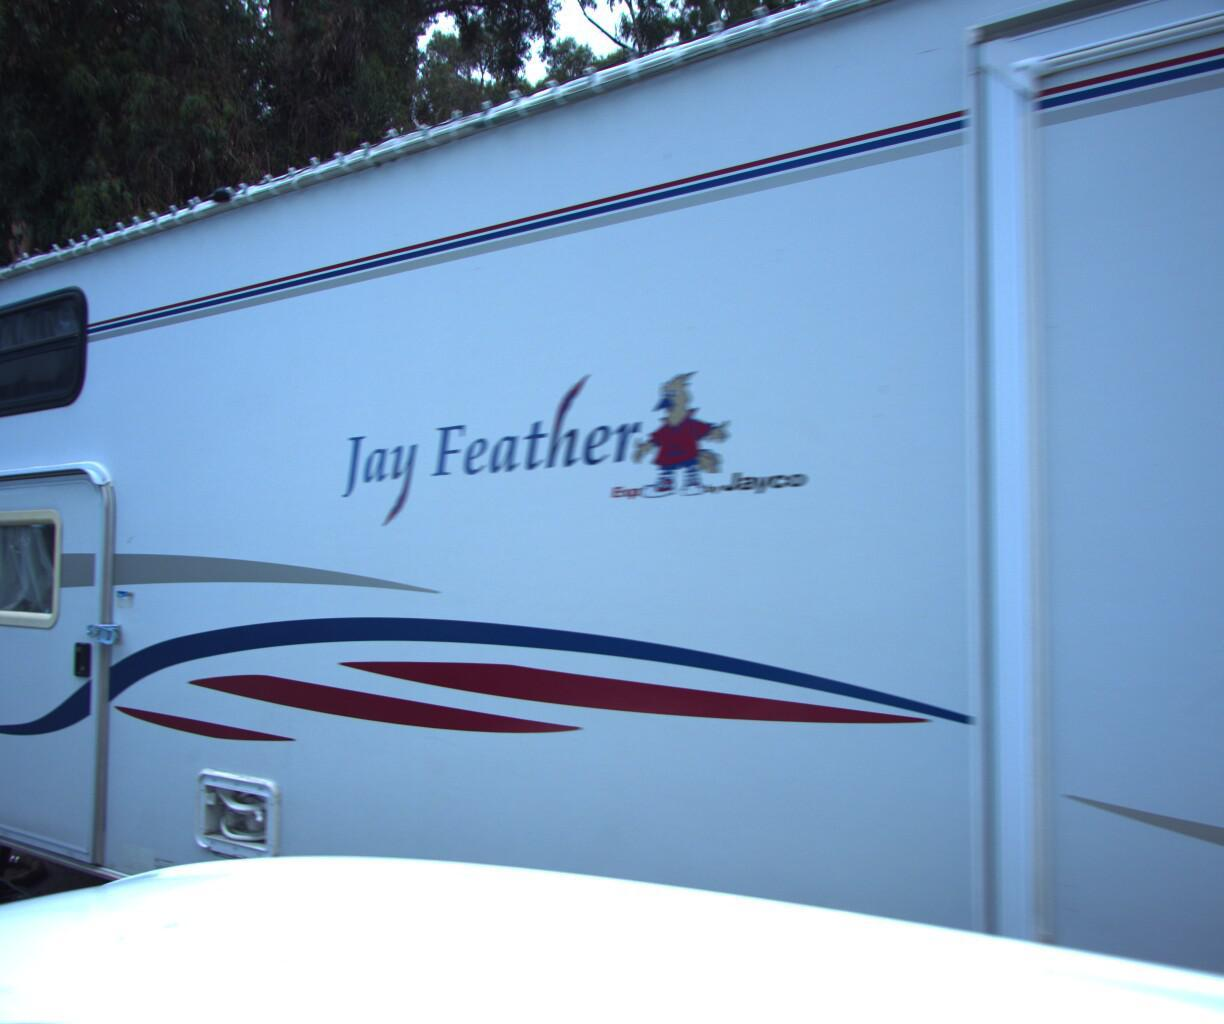car: (0, 495, 164, 877)
